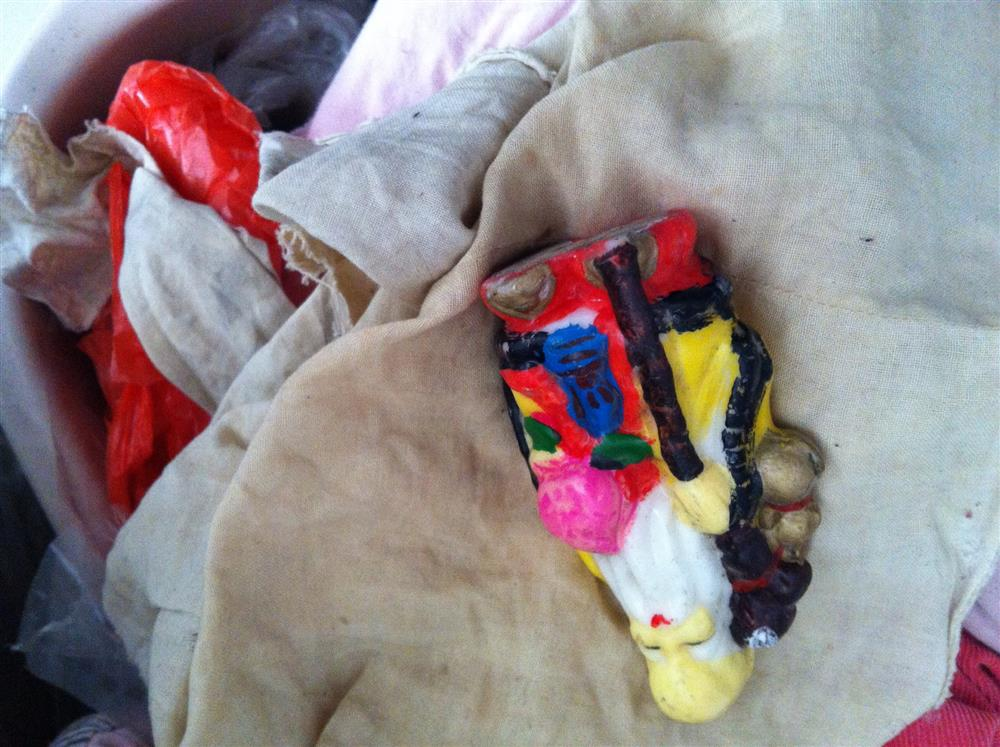oldman_candle: (479, 210, 822, 722)
